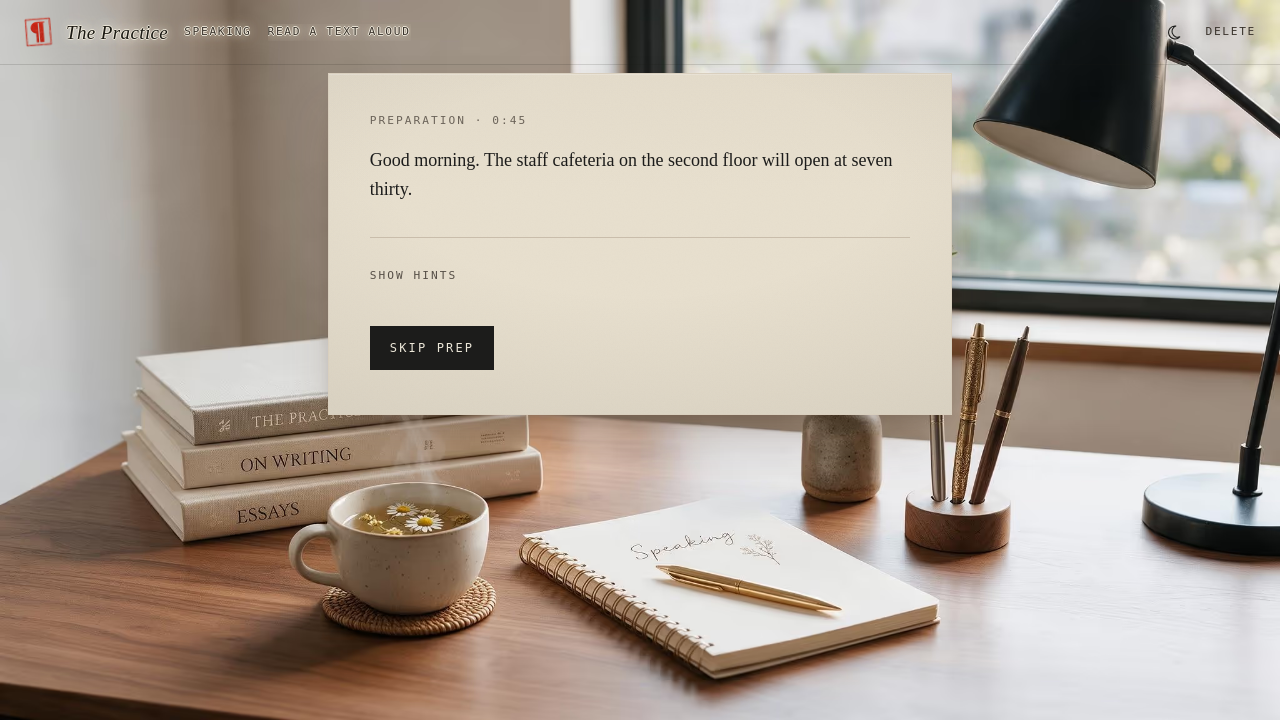
Scenario: SpeakingAttemptPage TOEIC exam room › shows a read-aloud passage during prep and record
Expected: the text "staff cafeteria on the second floor" is shown, [370, 150, 897, 200]
Expected: the text "Read a text aloud" is shown, [268, 24, 411, 41]
Click the button "Skip prep" at (432, 348), box [370, 326, 494, 370]
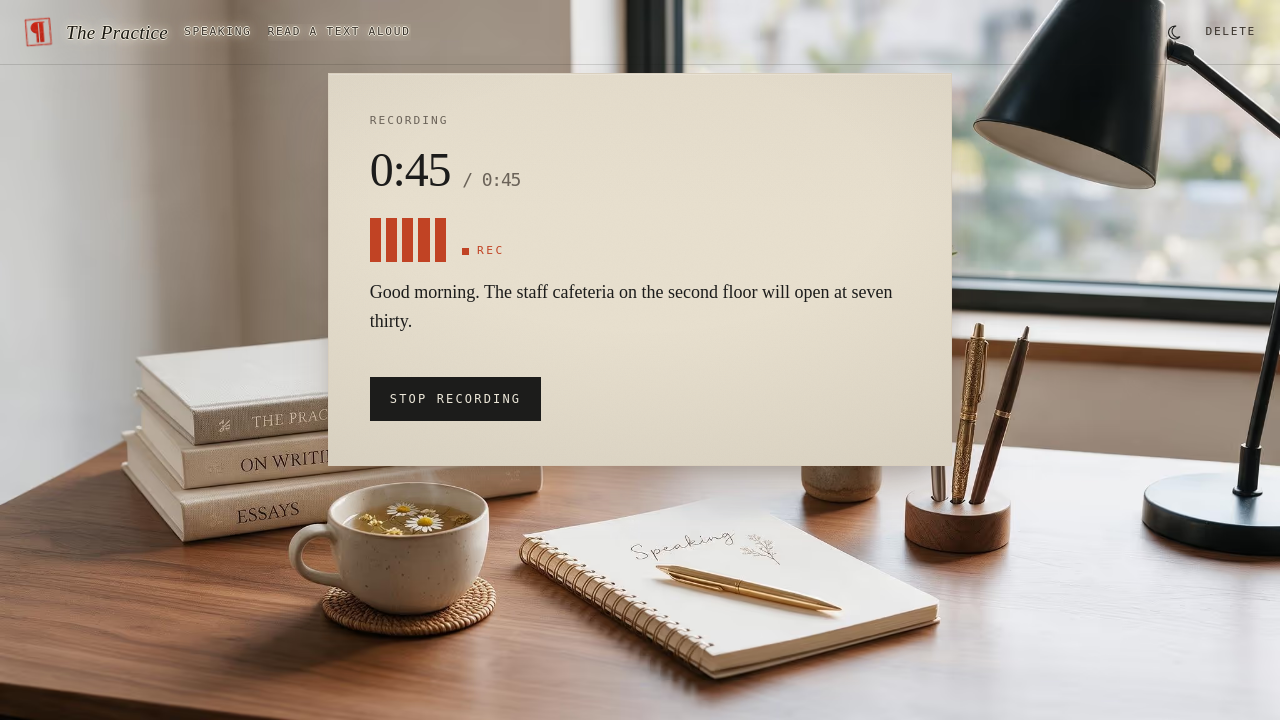
Expected: the text "staff cafeteria on the second floor" is shown, [370, 282, 897, 332]
Expected: the button "Stop recording" is shown, [370, 377, 541, 421]
